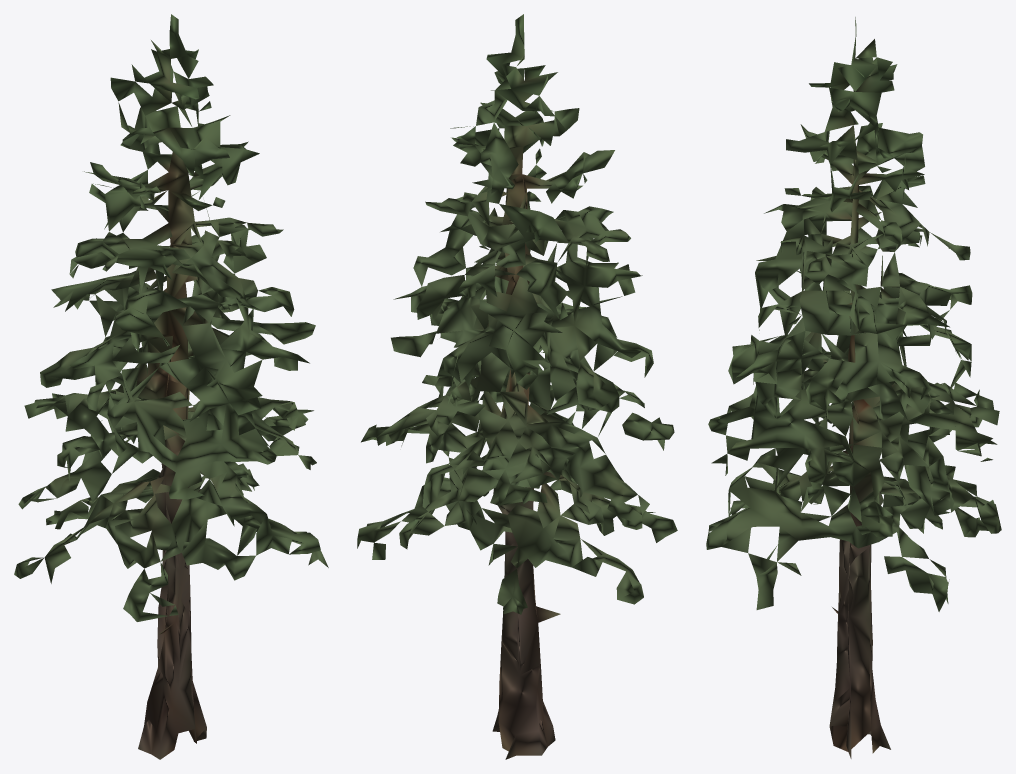
Rendered from cedar_a.2.glb.
3 views of the same model, side by side, from view 1: azimuth 30°, elevation 25°; view 2: azimuth 150°, elevation 25°; view 3: azimuth 270°, elevation 25° (orthographic).
Parts seen in each view (by area): view 1: lod; view 2: lod; view 3: lod.
Boxes of the visible parts, x1,y1,x2,y2 form: lod: [14, 14, 328, 759]; lod: [357, 14, 677, 759]; lod: [706, 17, 1001, 758].
Size of the model in its own units: 0.3815 by 0.9554 by 0.3478.
